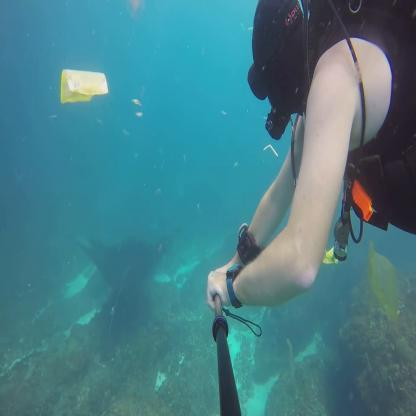Rác: (363, 238, 411, 317), (56, 62, 121, 108), (257, 142, 285, 164), (131, 95, 146, 125)
